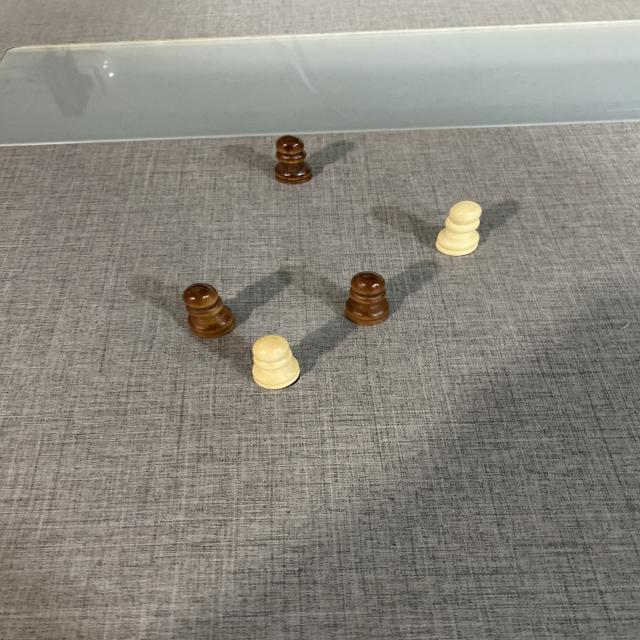Black-Pawn: (184, 282, 234, 338), (344, 272, 390, 326), (274, 135, 312, 185)
White-Pawn: (249, 336, 299, 391), (435, 200, 484, 256)
